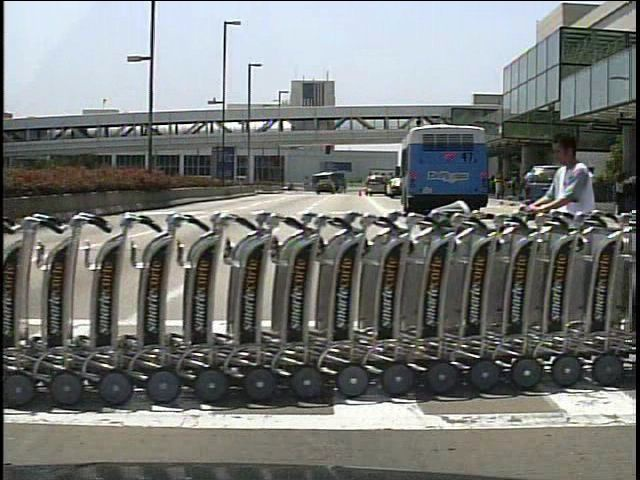person: (524, 127, 605, 359), (580, 165, 601, 214), (575, 163, 590, 221), (512, 162, 529, 213)
